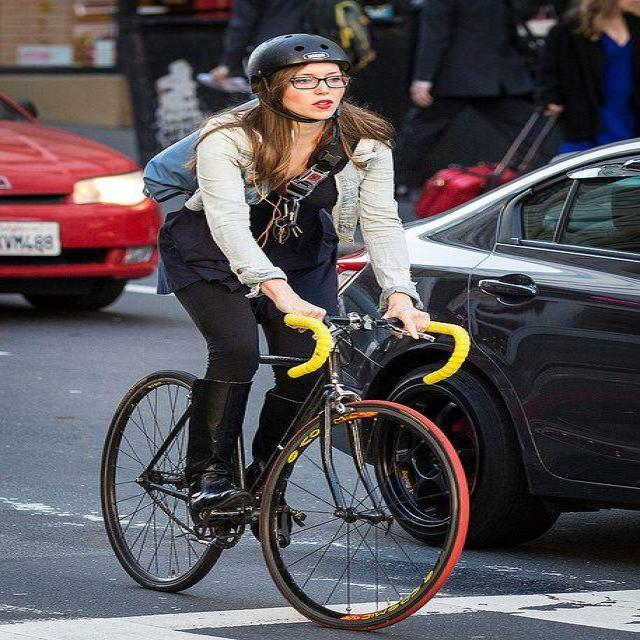Helmet: (248, 30, 355, 121)
